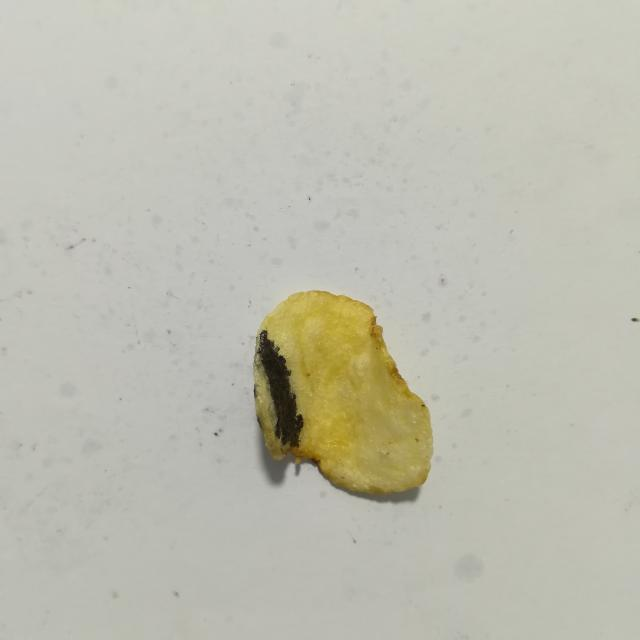chip: (254, 291, 433, 494)
damaged: (255, 329, 303, 447)
semi-damaged: (254, 353, 277, 440)
